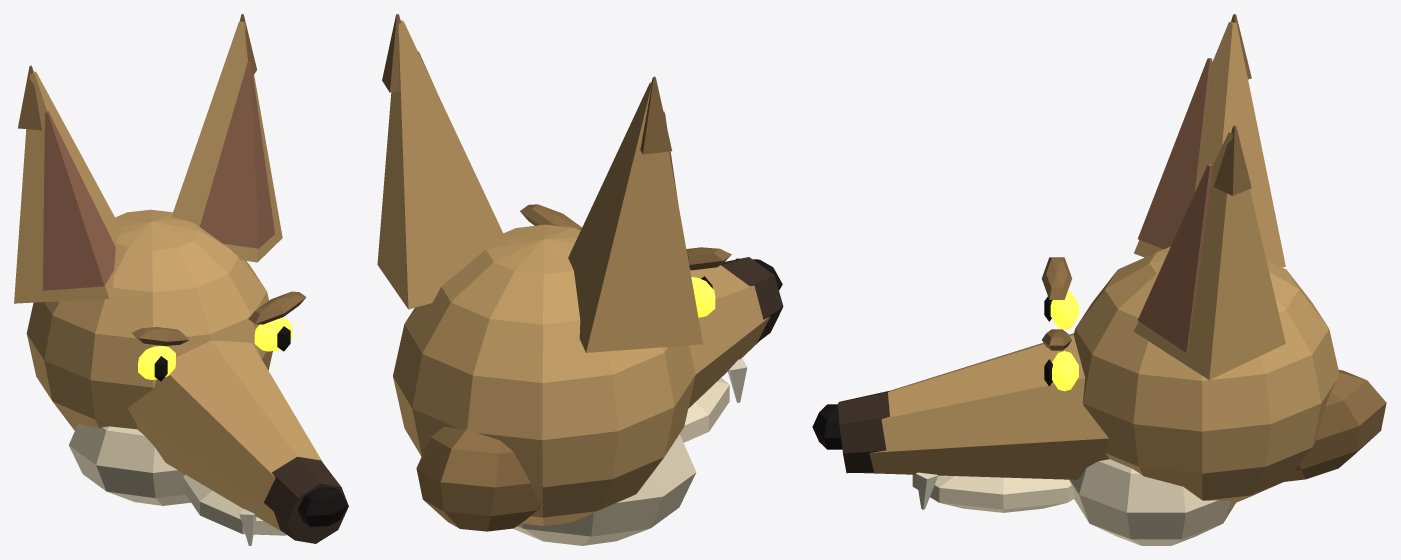
The model's file is dustpaw_head.glb.
The picture shows the model from 3 angles, left to right: view 1: azimuth 30°, elevation 25°; view 2: azimuth 150°, elevation 25°; view 3: azimuth 270°, elevation 25°; orthographic projection. The views are drawn at different scales.
Parts seen in each view (by area): view 1: dustpaw_head; view 2: dustpaw_head; view 3: dustpaw_head.
Part boxes in pixels (<box>): dustpaw_head: <box>14,14,348,545</box>; dustpaw_head: <box>377,14,783,545</box>; dustpaw_head: <box>812,14,1386,545</box>.
Size of the model in its own units: 0.8752 by 1.33 by 1.5.
